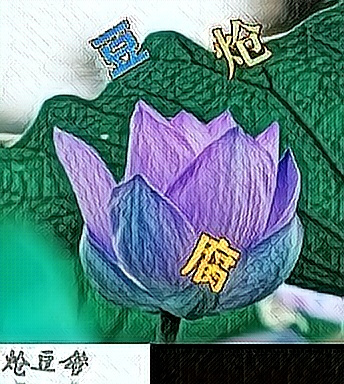B6B9: (89, 15, 152, 82)
B8AF: (178, 227, 241, 294)
ECC1: (209, 14, 272, 81)
